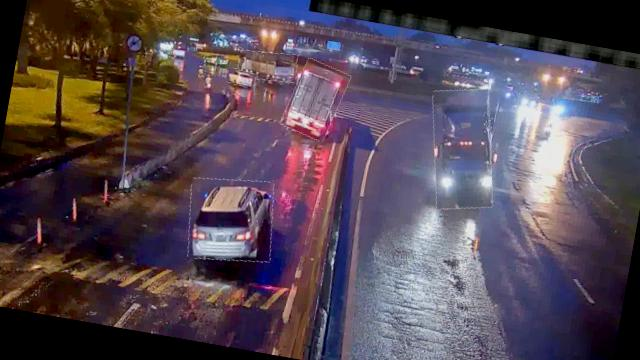Car: (182, 170, 280, 268), (225, 67, 256, 88)
Truck: (418, 82, 506, 215), (282, 58, 350, 142), (236, 46, 298, 86)
